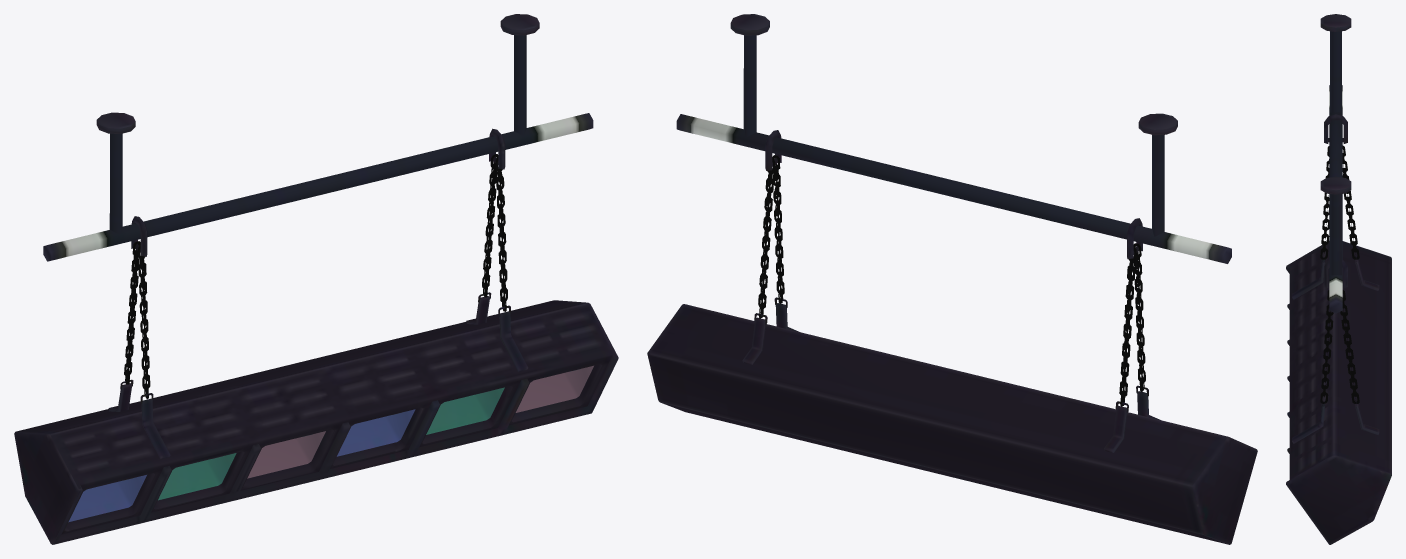
3 renders of one model, left to right at view 1: azimuth 30°, elevation 25°; view 2: azimuth 150°, elevation 25°; view 3: azimuth 270°, elevation 25°, orthographic. The views are drawn at different scales.
Size of the model in its own units: 20 by 14.28 by 4.1.
2 materials, 1 textured.
